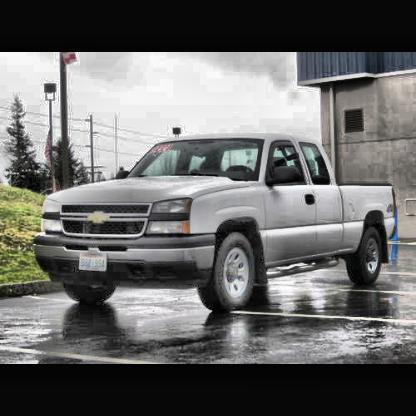Chevrolet Silverado 1500 Classic Extended Cab 2007: (33, 136, 399, 316)
